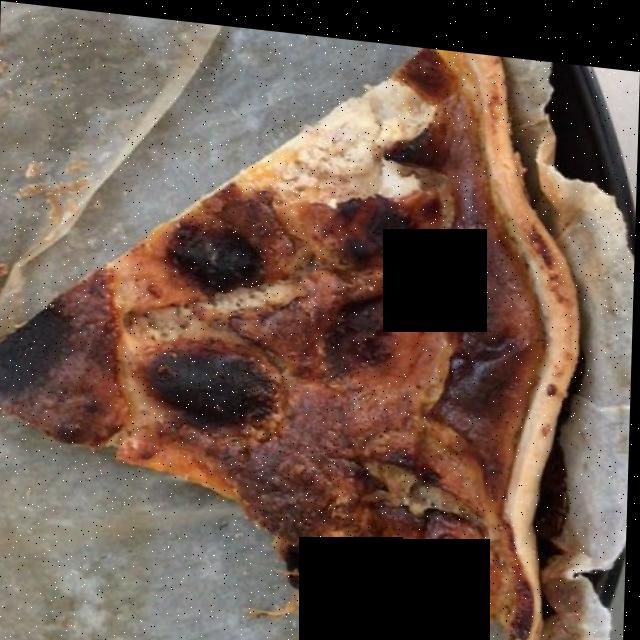pie-apricot-baked-with-cake-dough: (10, 69, 571, 617)
